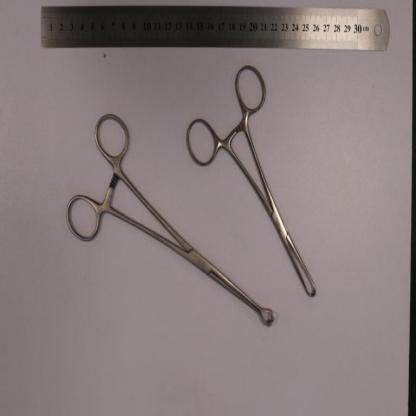8 Babcock Tissue Forceps: (66, 112, 274, 329)
Allis Tissue Forceps: (186, 63, 316, 299)
